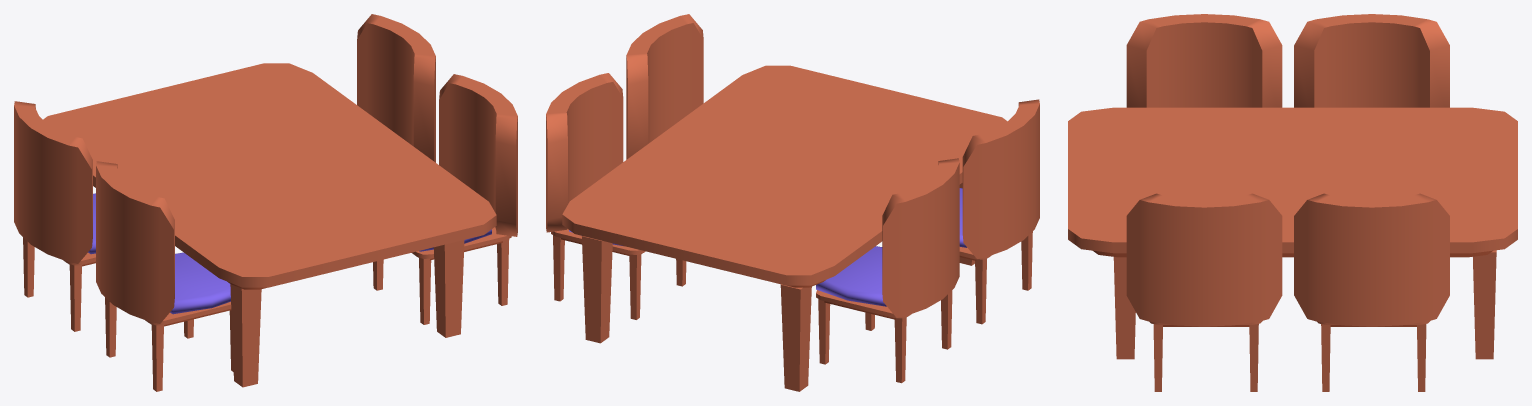
The model's file is Dining_Table.glb.
3 views of the same model, side by side, from view 1: azimuth 30°, elevation 25°; view 2: azimuth 150°, elevation 25°; view 3: azimuth 270°, elevation 25° (orthographic). The views are drawn at different scales.
Visible parts, largest first — view 1: mergedBlocks(Clone); view 2: mergedBlocks(Clone); view 3: mergedBlocks(Clone).
Part boxes in pixels (x1,y1,x2,y2): mergedBlocks(Clone): [14, 14, 517, 391]; mergedBlocks(Clone): [546, 14, 1039, 391]; mergedBlocks(Clone): [1068, 14, 1517, 391].
Bounding box in the file's own units: 1.91 × 0.8907 × 1.88.
